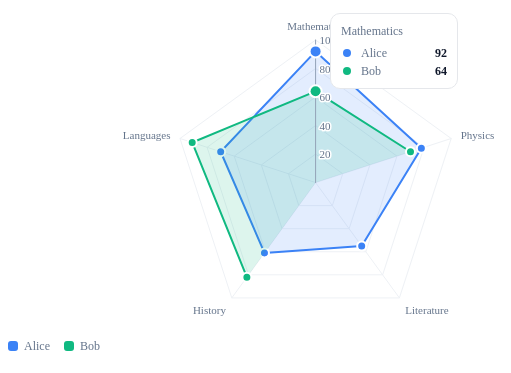
RadarChart › toggles datasets from the legend
Click the button "Bob". click: (82, 346)
box: [60,336,104,357]
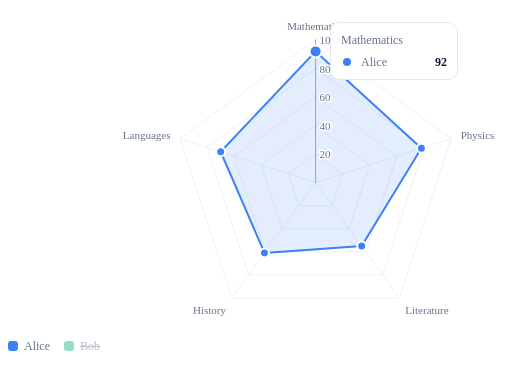
Expected: the button "Alice" is disabled, [4,336,54,357]
Expected: the button "Bob" is not pressed, [60,336,104,357]
